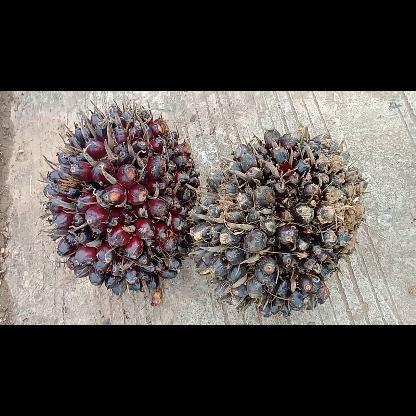TBS mentah: (188, 121, 370, 316), (42, 100, 200, 308)
